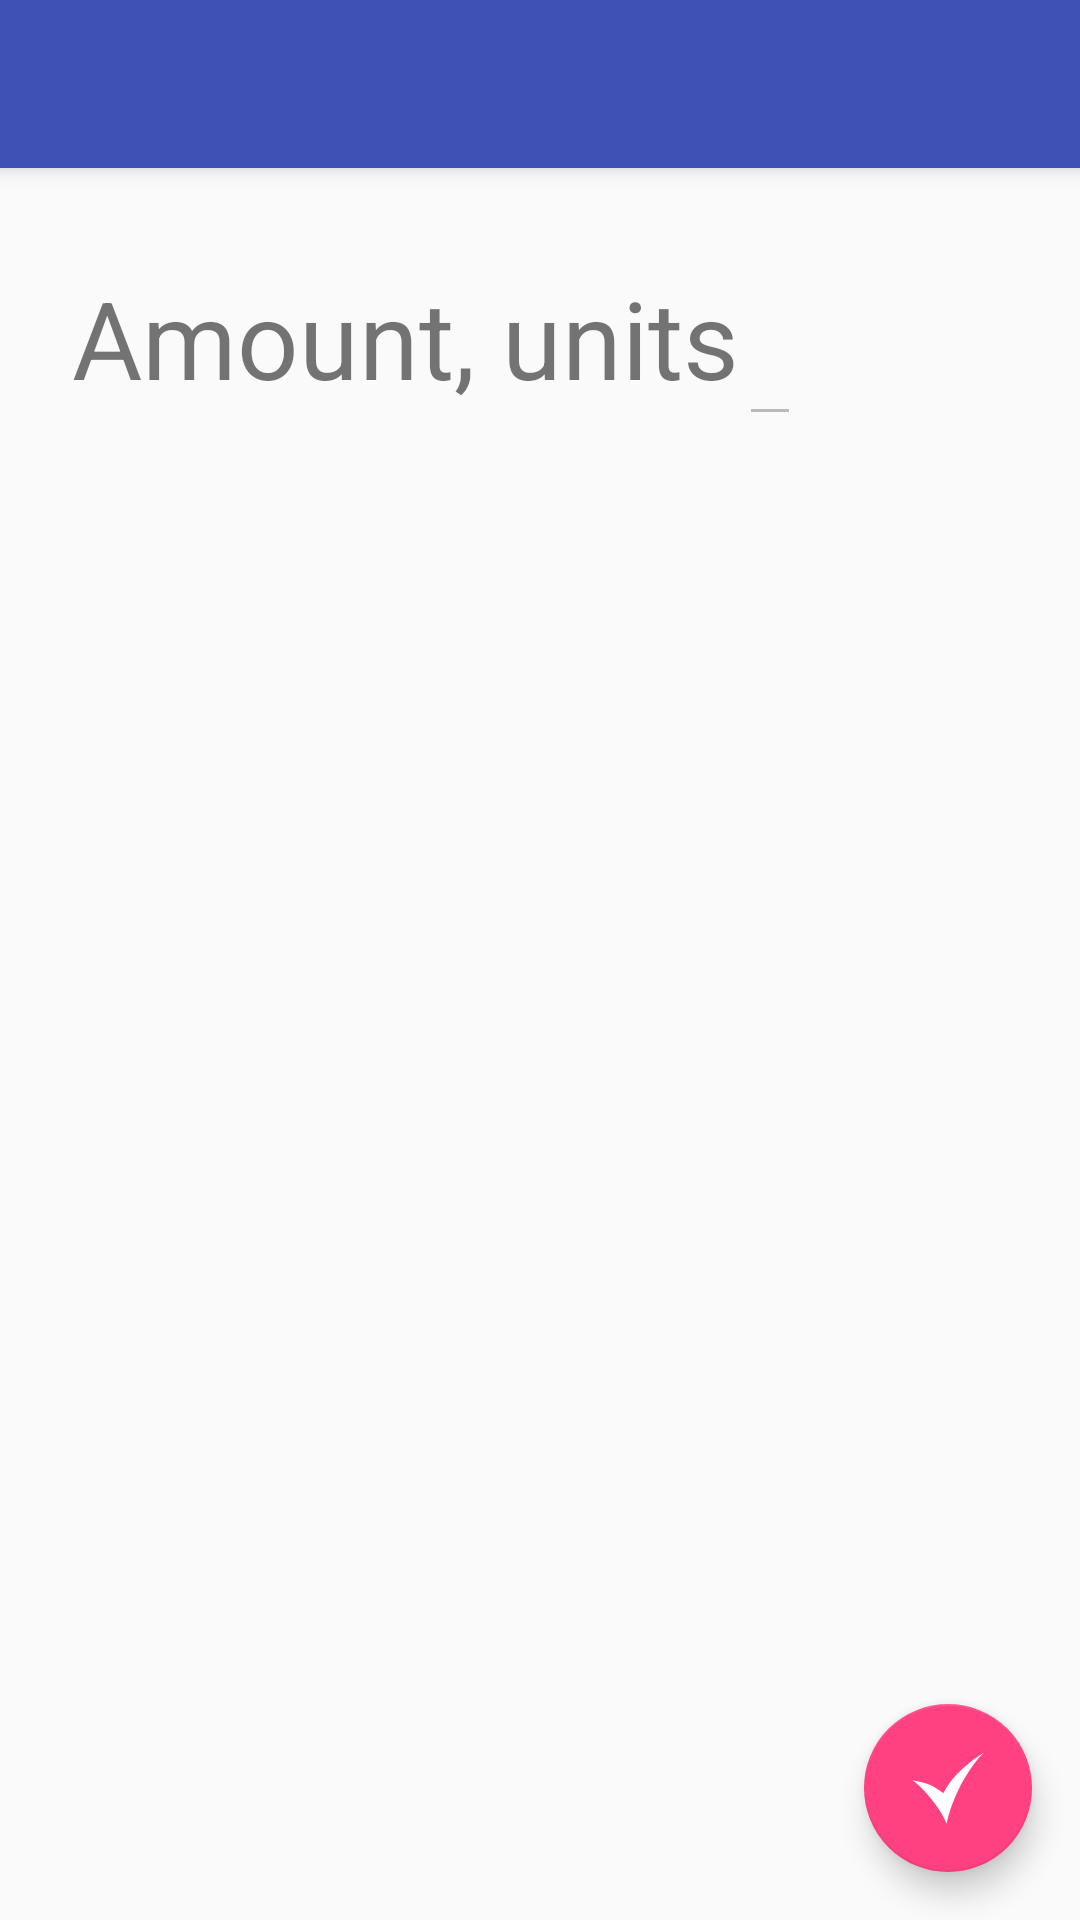

Icons on this 1080*1920 Android screen, each with its box as Rect(x1, y1, x2, y2):
check: Rect(864, 1704, 1032, 1872)
